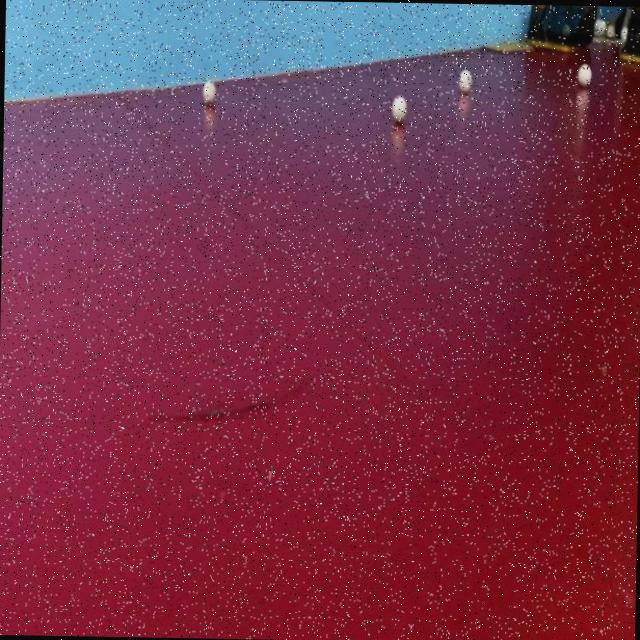ping-pong-ball: (383, 87, 413, 124), (448, 60, 475, 98), (196, 71, 218, 104), (570, 60, 592, 90), (590, 7, 606, 38)
